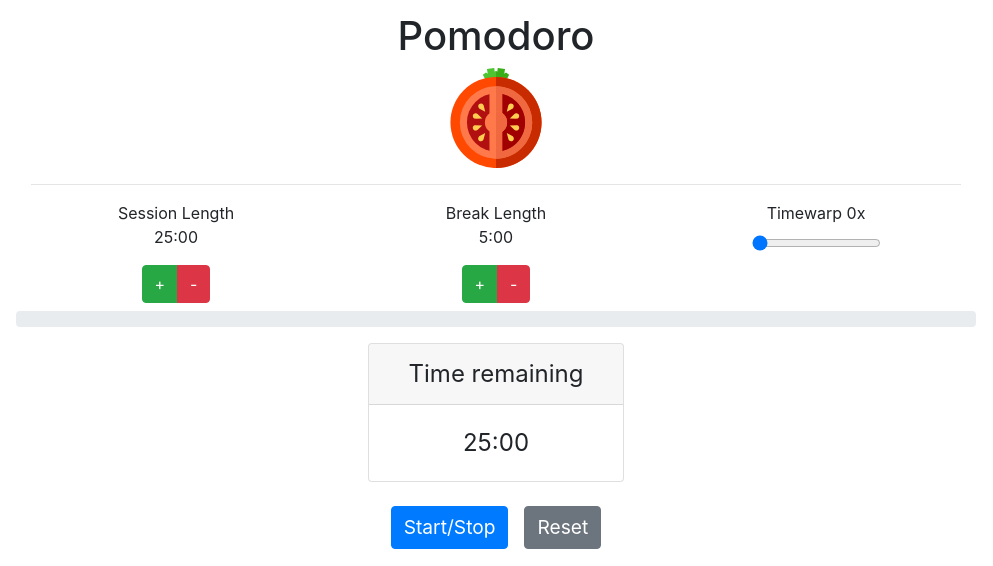
Test: Pomodoro app › User Story #12: When I click the element with the id of break-decrement, the value within id="break-length" decrements by a value of 1, and I can see the update
Click the button with test id "break-increment" at (480, 284), box [462,265,498,303]
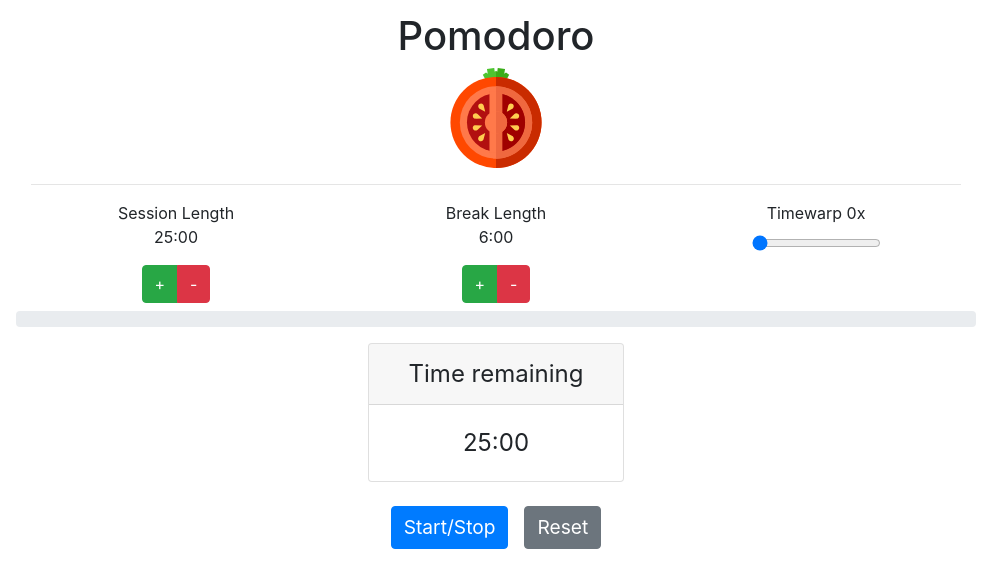
Result: the text with test id "break-length" reads "6:00" at [479,227,513,247]
